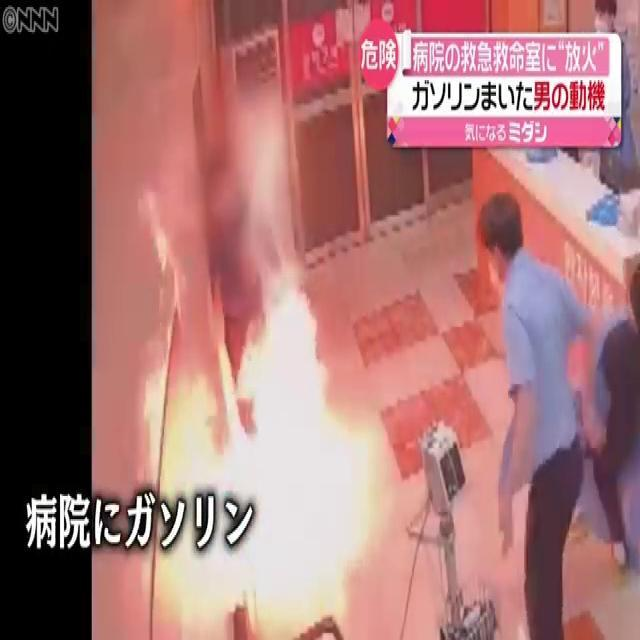Fire: (115, 235, 403, 633)
